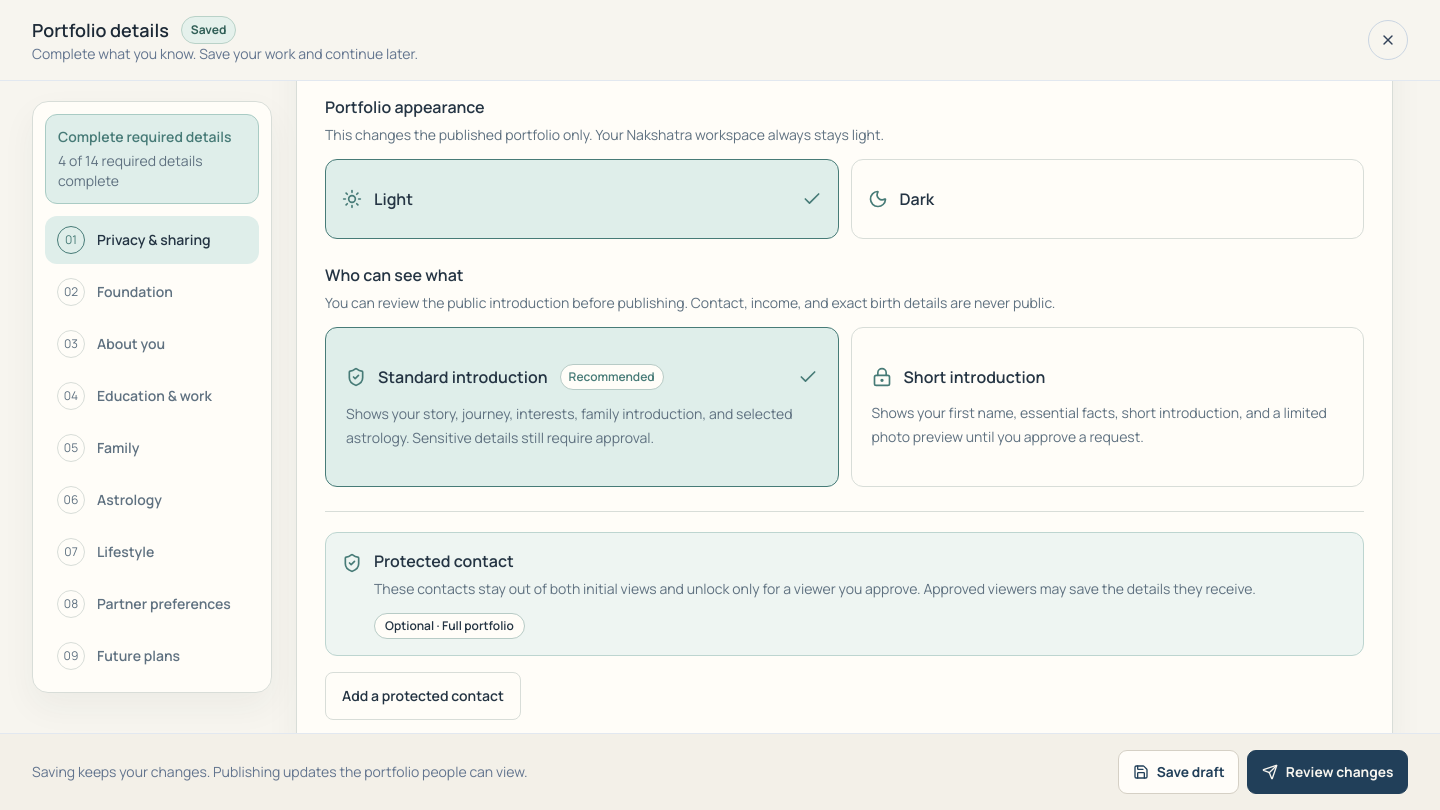
Test: dashboard client › updates field disclosure labels when Short introduction is selected
(page scrolled)
Click the button "Short introduction" at (1107, 407), box [850,327,1364,487]
(page scrolled)
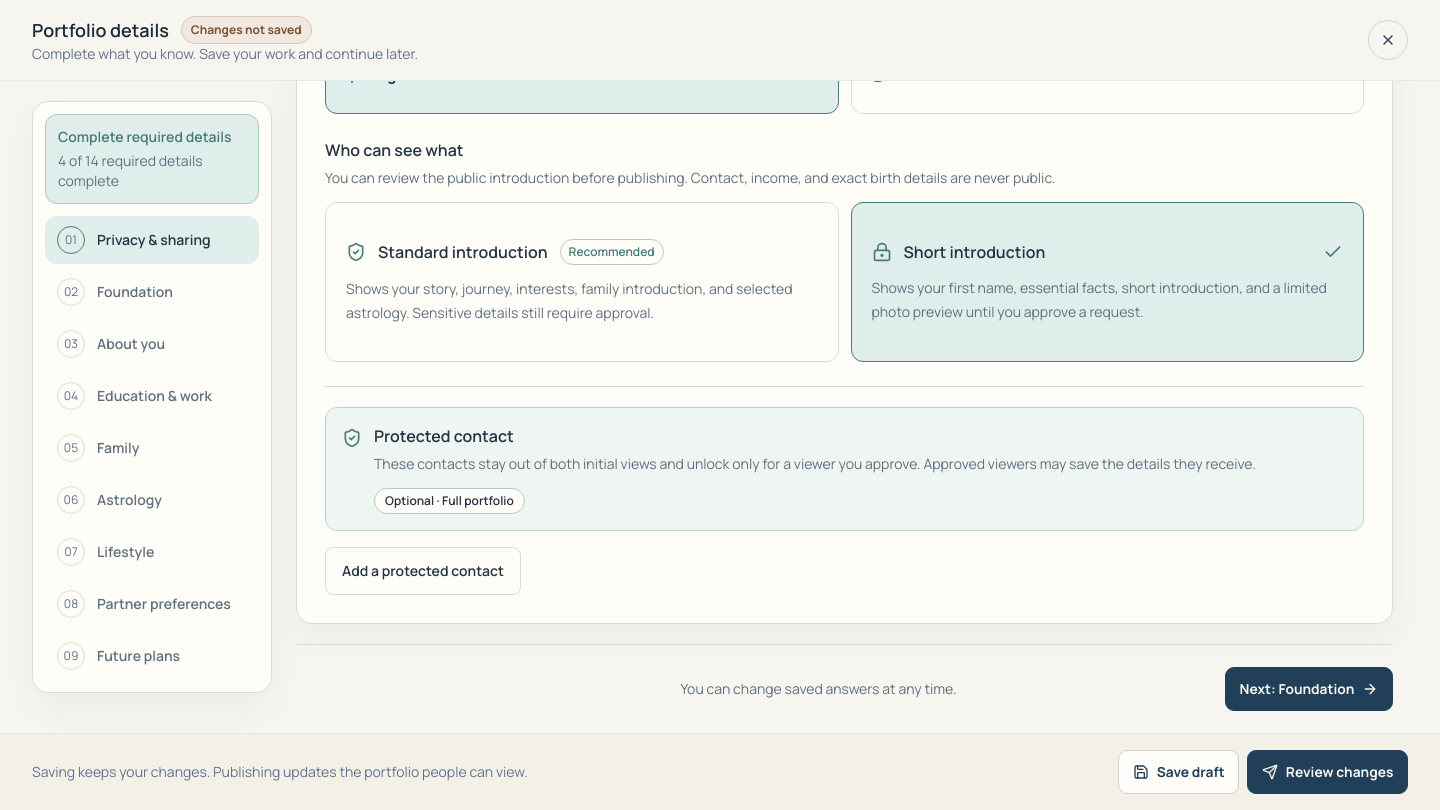
Click the button "Next: Foundation" at (1309, 689), box [1225,667,1393,711]
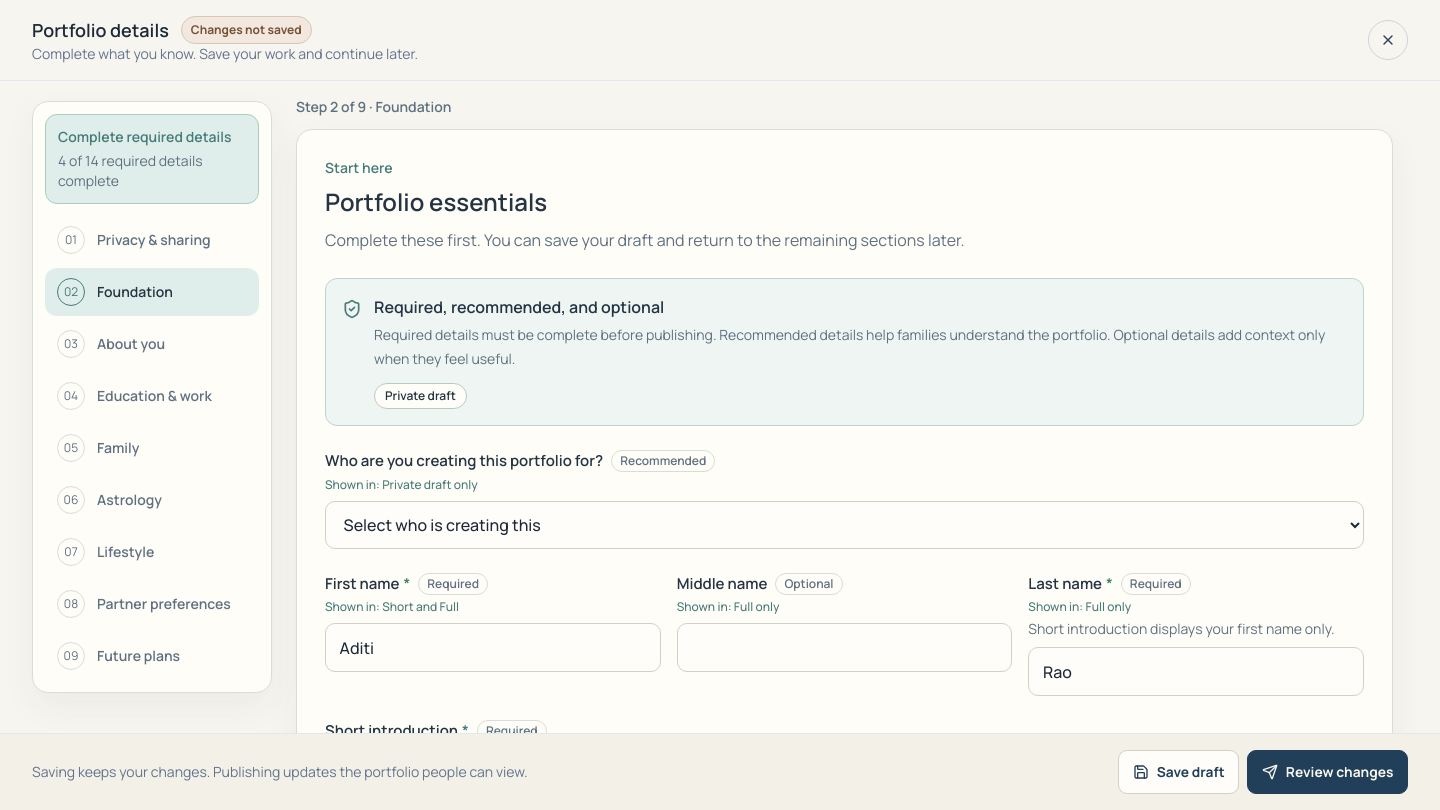
Check: the text "Shown in: Short and Full" is shown, box [325,598,459,615]
Check: the text "Shown in: Full only" below "Middle name" is shown, box [677,598,780,615]
